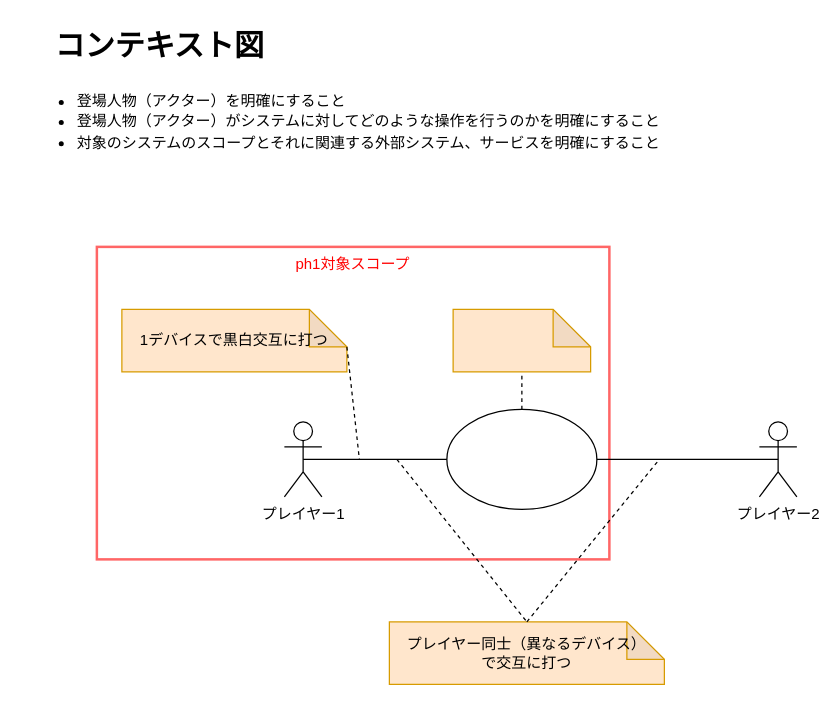
Some shapes in this 840 by 706 pixel diagram are drawn without their labels. The shapes that lost their labels are listed below. From the top down, each one's centre as x and y in pixels, then its label:
(x=521, y=340): Webアプリ
(x=521, y=458): リバーシ アプリケーション
